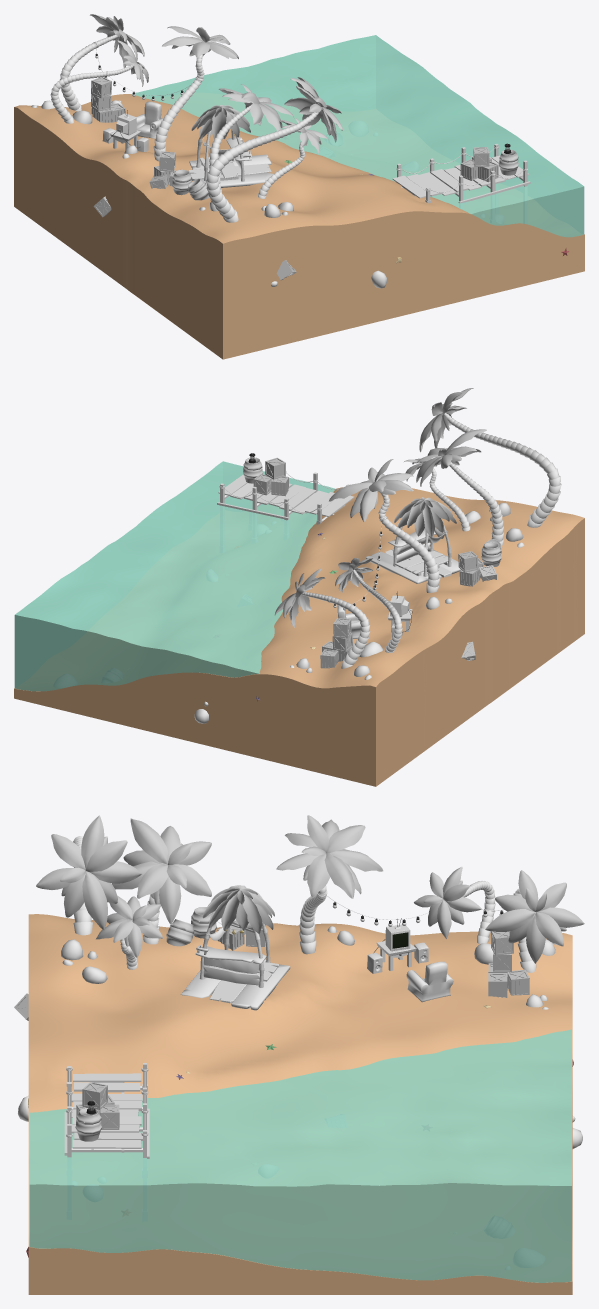
File: Spiaggia.fbx
3 views of the same model, one above another, from view 1: azimuth 30°, elevation 25°; view 2: azimuth 150°, elevation 25°; view 3: azimuth 270°, elevation 25° (orthographic). The views are drawn at different scales.
Parts seen in each view (by area): view 1: sabbia, Mare, Cube.013, Cylinder.008, chioma.003, chioma.002, Icosphere, chioma.001, Cube, Cylinder.007, chioma, Cylinder.005 (+7 smaller); view 2: sabbia, Mare, Cube.013, Cylinder.008, chioma.002, Icosphere, chioma.001, Cylinder.007, chioma.003, Cube, Cylinder.005, chioma (+4 smaller); view 3: Mare, sabbia, chioma.003, chioma.001, chioma.002, chioma, Cube.013, Cube, Icosphere, chioma.004, chioma.005, Cube.005 (+5 smaller).
Part boxes in pixels (x1,y1,x2,y2): sabbia: (14,94,584,359); Mare: (131,35,584,237); Cube.013: (392,155,530,203); Cylinder.008: (206,111,320,222); chioma.003: (284,77,342,142); chioma.002: (162,26,238,58); Icosphere: (31,100,386,288); chioma.001: (219,84,293,131); Cube: (189,137,272,187); Cylinder.007: (153,54,204,161); chioma: (90,14,144,67); Cylinder.005: (59,33,120,111); sabbia: (14,487,584,786); Mare: (14,461,335,691); Cube.013: (217,474,354,521); Cylinder.008: (444,412,561,527); chioma.002: (329,459,413,521); Icosphere: (194,503,524,723); chioma.001: (416,429,486,486); Cylinder.007: (378,493,440,592); chioma.003: (419,388,473,452); Cube: (366,529,461,583); Cylinder.005: (301,591,370,668); chioma: (274,568,324,627); Mare: (29,1029,571,1282); sabbia: (28,914,572,1294); chioma.003: (36,815,141,930); chioma.001: (112,818,211,924); chioma.002: (276,815,383,898); chioma: (485,870,584,963); Cube.013: (64,1073,149,1158); Cube: (180,944,290,1010); Icosphere: (18,926,582,1148); chioma.004: (414,867,481,938); chioma.005: (96,895,162,957); Cube.005: (406,961,453,1002).
Bounding box in the file's own units: 3083 × 1887 × 3149.
